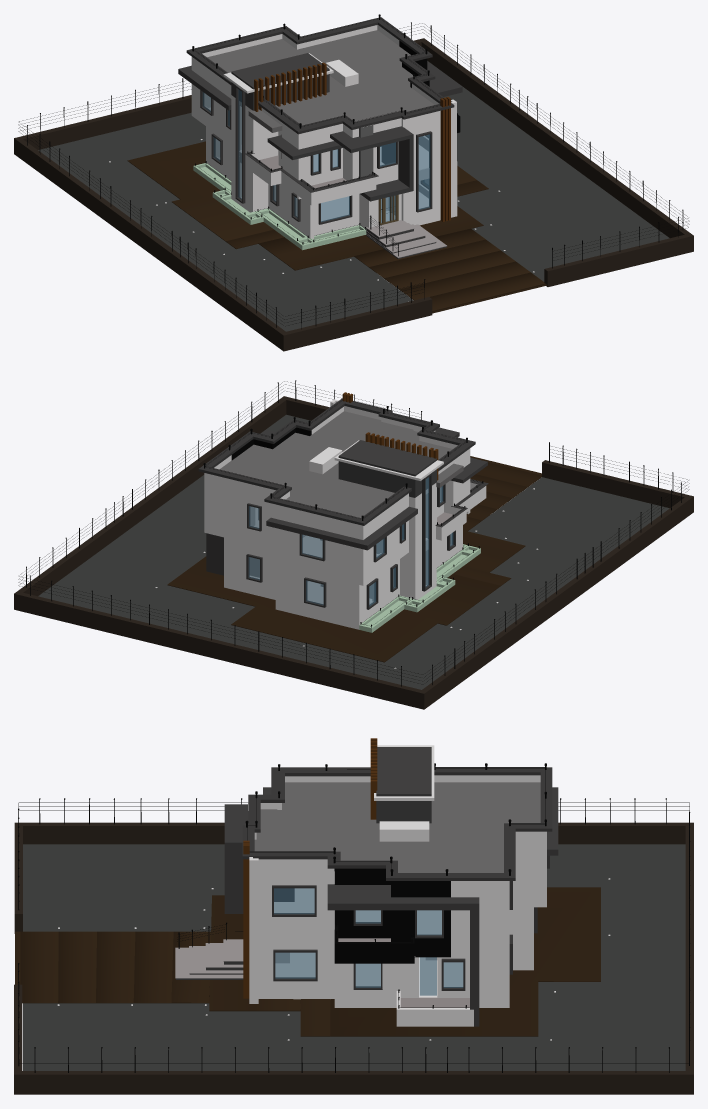
Rendered from villa1.glb.
3 views of the same model, one above another, from view 1: azimuth 30°, elevation 25°; view 2: azimuth 150°, elevation 25°; view 3: azimuth 270°, elevation 25° (orthographic). The views are drawn at different scales.
Visible parts, largest first — view 1: Rectangle007_Material #11_0, Line055_Material #4_0, Line061_Material #13_0, Line015_Material #250_0, Line009_Material #24_0, Line025_Material #246_0, Line017_Material #253_0, Box023_Material #242_0, Box007_Material #12_0, Line012_Material #24_0, Line013_Material #24_0, Line003_Material #24_0 (+18 smaller); view 2: Rectangle007_Material #11_0, Line055_Material #4_0, Line061_Material #13_0, Line015_Material #250_0, Line012_Material #24_0, Line025_Material #246_0, Line001_Material #24_0, Line011_Material #24_0, Box007_Material #12_0, Line002_Material #24_0, Box023_Material #242_0, Line013_Material #24_0 (+12 smaller); view 3: Rectangle007_Material #11_0, Line061_Material #13_0, Line055_Material #4_0, Line015_Material #250_0, Line003_Material #24_0, Line025_Material #246_0, Line011_Material #24_0, Line009_Material #24_0, Line010_Material #24_0, Line023_Material #253_0, Box007_Material #12_0, Line018_Material #248_0 (+23 smaller).
Part boxes in pixels (bbox=[...]): Rectangle007_Material #11_0: bbox=[38, 61, 669, 331]; Line055_Material #4_0: bbox=[14, 38, 693, 351]; Line061_Material #13_0: bbox=[127, 141, 547, 313]; Line015_Material #250_0: bbox=[207, 30, 434, 132]; Line009_Material #24_0: bbox=[261, 84, 456, 199]; Line025_Material #246_0: bbox=[186, 17, 454, 134]; Line017_Material #253_0: bbox=[330, 126, 413, 201]; Box023_Material #242_0: bbox=[193, 163, 366, 250]; Box007_Material #12_0: bbox=[231, 53, 329, 110]; Line012_Material #24_0: bbox=[191, 34, 282, 144]; Line013_Material #24_0: bbox=[231, 95, 297, 178]; Line003_Material #24_0: bbox=[398, 161, 457, 225]; Rectangle007_Material #11_0: bbox=[38, 414, 669, 689]; Line055_Material #4_0: bbox=[14, 396, 693, 709]; Line061_Material #13_0: bbox=[167, 456, 541, 662]; Line015_Material #250_0: bbox=[219, 411, 463, 517]; Line012_Material #24_0: bbox=[274, 493, 408, 585]; Line025_Material #246_0: bbox=[198, 398, 475, 525]; Line001_Material #24_0: bbox=[275, 559, 399, 629]; Line011_Material #24_0: bbox=[204, 455, 305, 563]; Box007_Material #12_0: bbox=[338, 440, 436, 497]; Line002_Material #24_0: bbox=[224, 537, 275, 599]; Box023_Material #242_0: bbox=[359, 544, 480, 632]; Line013_Material #24_0: bbox=[409, 453, 468, 553]; Rectangle007_Material #11_0: bbox=[23, 844, 685, 1070]; Line061_Material #13_0: bbox=[15, 887, 600, 1036]; Line055_Material #4_0: bbox=[14, 822, 693, 1094]; Line015_Material #250_0: bbox=[254, 782, 540, 872]; Line003_Material #24_0: bbox=[249, 929, 416, 1007]; Line025_Material #246_0: bbox=[242, 767, 552, 880]; Line011_Material #24_0: bbox=[451, 831, 546, 957]; Line009_Material #24_0: bbox=[249, 776, 370, 934]; Line010_Material #24_0: bbox=[334, 868, 450, 957]; Line023_Material #253_0: bbox=[327, 884, 479, 1026]; Box007_Material #12_0: bbox=[376, 747, 431, 823]; Line018_Material #248_0: bbox=[275, 953, 462, 995].
Bounding box in the file's own units: 19.3 × 6.23 × 22.
